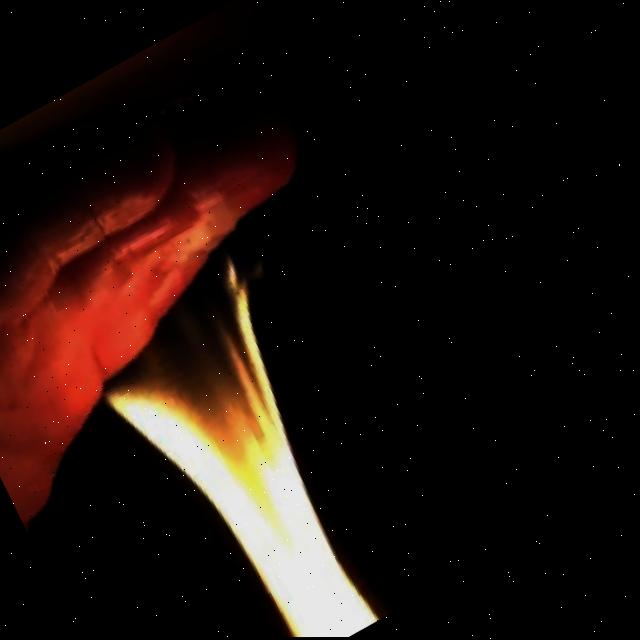Fire: (47, 237, 463, 639)
